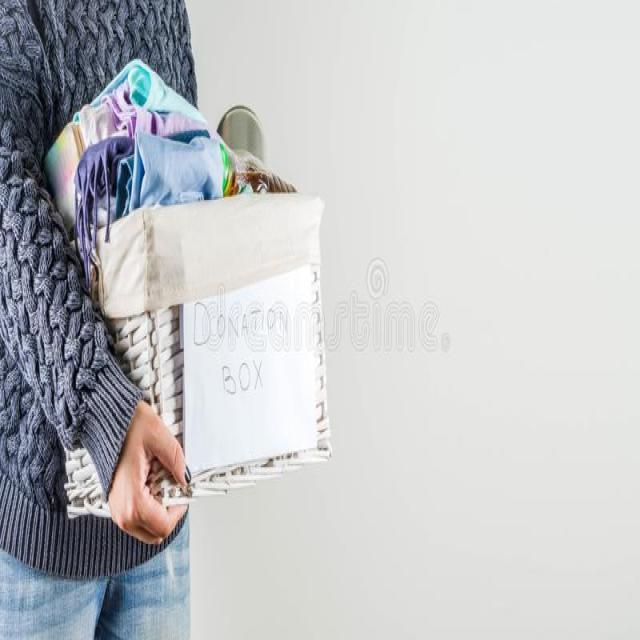clothes: (66, 81, 218, 196)
